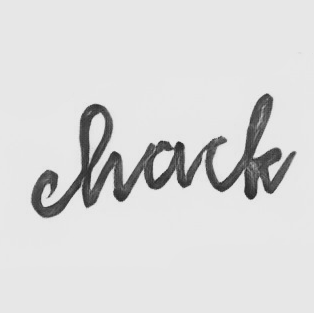a: (140, 136, 187, 193)
c: (201, 134, 232, 195), (29, 166, 63, 221)
h: (76, 102, 129, 210)
k: (239, 91, 286, 201)
